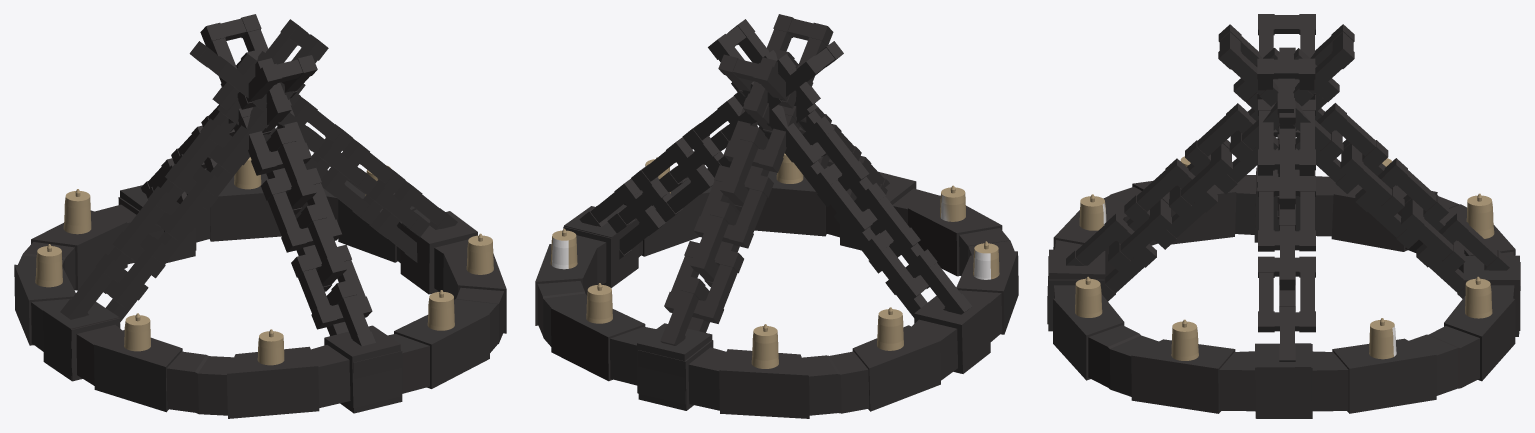
The model's file is chandelier.fbx.
3 views of the same model, side by side, from view 1: azimuth 30°, elevation 25°; view 2: azimuth 150°, elevation 25°; view 3: azimuth 270°, elevation 25° (orthographic). The views are drawn at different scales.
Visible parts, largest first — view 1: Cube.001, Cylinder.005, Cylinder.006, Cylinder.001, Cylinder.002, Cylinder.007, Cylinder.008, Cylinder.004; view 2: Cube.001, Cylinder.005, Cylinder.006, Cylinder.004, Cylinder.003, Cylinder.007, Cylinder.008, Cylinder.002; view 3: Cube.001, Cylinder.004, Cylinder.001, Cylinder.002, Cylinder.003, Cylinder.005, Cylinder.008.
Boxes of the visible parts, <box> form: Cube.001: <box>14,14,506,418</box>; Cylinder.005: <box>63,189,91,234</box>; Cylinder.006: <box>35,244,62,287</box>; Cylinder.001: <box>466,233,493,274</box>; Cylinder.002: <box>427,290,454,330</box>; Cylinder.007: <box>124,313,150,351</box>; Cylinder.008: <box>257,329,284,365</box>; Cylinder.004: <box>234,157,261,189</box>; Cube.001: <box>535,14,1018,418</box>; Cylinder.005: <box>751,324,778,368</box>; Cylinder.006: <box>877,307,903,350</box>; Cylinder.004: <box>586,283,612,323</box>; Cylinder.003: <box>550,228,577,269</box>; Cylinder.007: <box>973,241,999,279</box>; Cylinder.008: <box>940,185,965,221</box>; Cylinder.002: <box>776,153,803,183</box>; Cube.001: <box>1047,14,1520,418</box>; Cylinder.004: <box>1465,276,1492,318</box>; Cylinder.001: <box>1171,319,1198,360</box>; Cylinder.002: <box>1075,276,1102,317</box>; Cylinder.003: <box>1369,318,1396,359</box>; Cylinder.005: <box>1466,193,1494,238</box>; Cylinder.008: <box>1079,194,1106,230</box>.
Bounding box in the file's own units: 1674 × 1130 × 1677.
2 materials, 2 textured.
